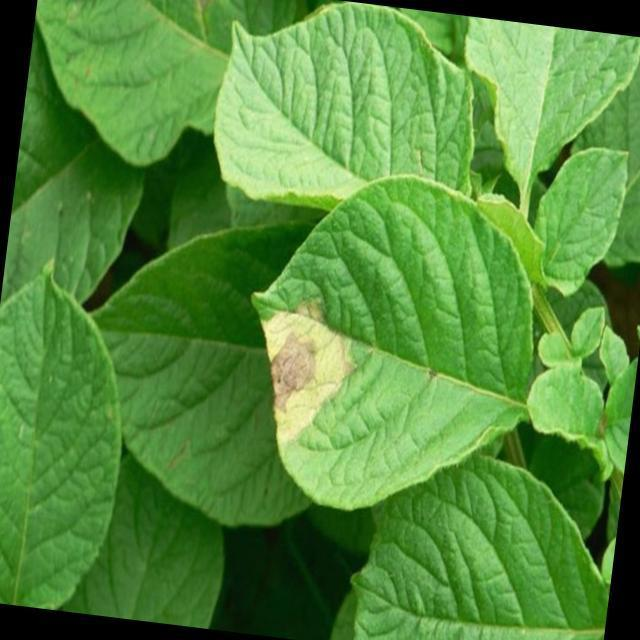Healthy Leaf: (197, 0, 494, 235), (348, 445, 619, 640), (0, 262, 142, 612), (530, 130, 635, 290)
